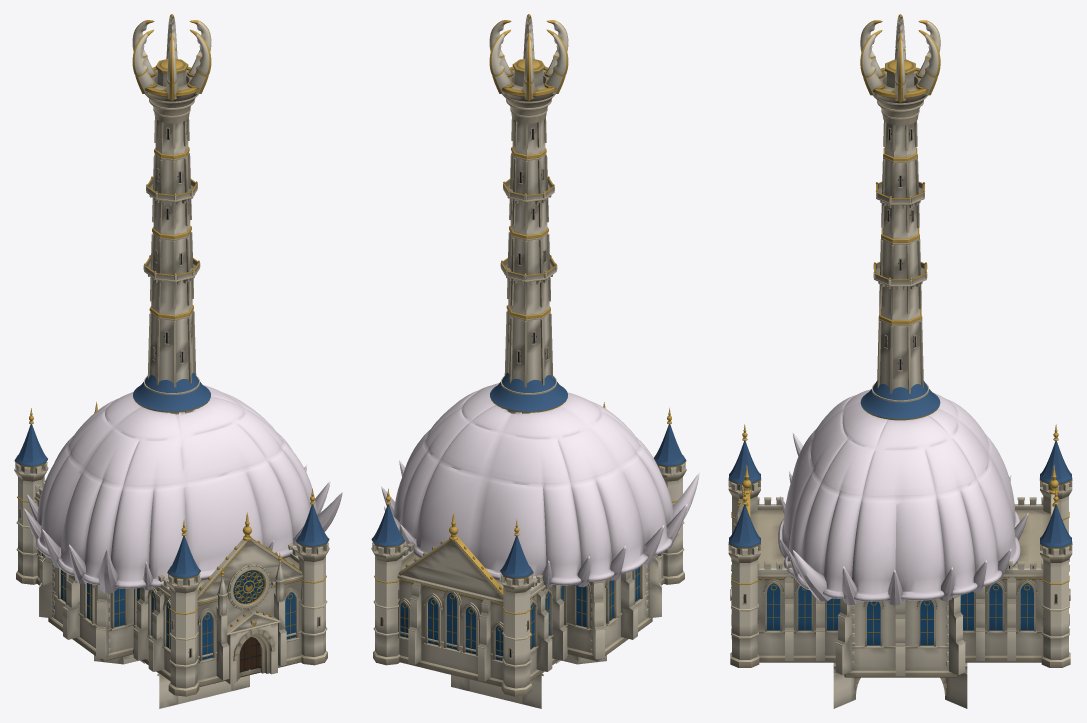
The model's file is tidecrown.glb.
3 views of the same model, side by side, from view 1: azimuth 30°, elevation 25°; view 2: azimuth 150°, elevation 25°; view 3: azimuth 270°, elevation 25° (orthographic).
Visible parts, largest first — view 1: TC_Keep_mesh, TC_WardTower_mesh, TC_BridgeSpan_mesh; view 2: TC_Keep_mesh, TC_WardTower_mesh, TC_BridgeSpan_mesh; view 3: TC_Keep_mesh, TC_WardTower_mesh, TC_BridgeSpan_mesh.
Part boxes in pixels (x1,y1,x2,y2): TC_Keep_mesh: (14, 14, 342, 696); TC_WardTower_mesh: (133, 372, 210, 414); TC_BridgeSpan_mesh: (94, 654, 249, 708); TC_Keep_mesh: (371, 14, 699, 696); TC_WardTower_mesh: (490, 372, 567, 413); TC_BridgeSpan_mesh: (451, 654, 606, 708); TC_Keep_mesh: (728, 14, 1072, 677); TC_WardTower_mesh: (860, 380, 940, 420); TC_BridgeSpan_mesh: (833, 662, 967, 708).
Size of the model in its own units: 70.13 by 164 by 77.46.
